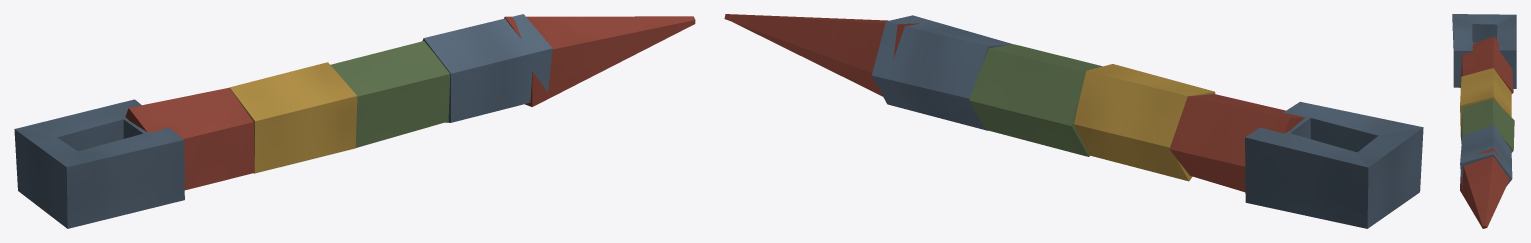
The model's file is needle_rainbow.glb.
3 views of the same model, side by side, from view 1: azimuth 30°, elevation 25°; view 2: azimuth 150°, elevation 25°; view 3: azimuth 270°, elevation 25° (orthographic). The views are drawn at different scales.
Visible parts, largest first — view 1: NeedleRainbow; view 2: NeedleRainbow; view 3: NeedleRainbow.
Part boxes in pixels (box(x1,y1,x2,y2)): NeedleRainbow: box(14, 14, 695, 228); NeedleRainbow: box(724, 14, 1423, 228); NeedleRainbow: box(1452, 14, 1516, 228).
Bounding box in the file's own units: 0.3373 × 0.0423 × 0.0475.
Materials: 4 (4 with a texture image).
